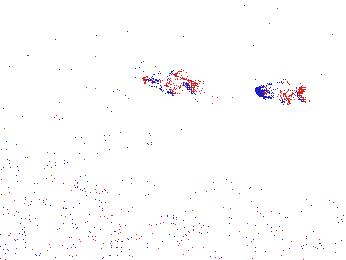redtail glassfish: (136, 67, 204, 97), (253, 77, 312, 107)
